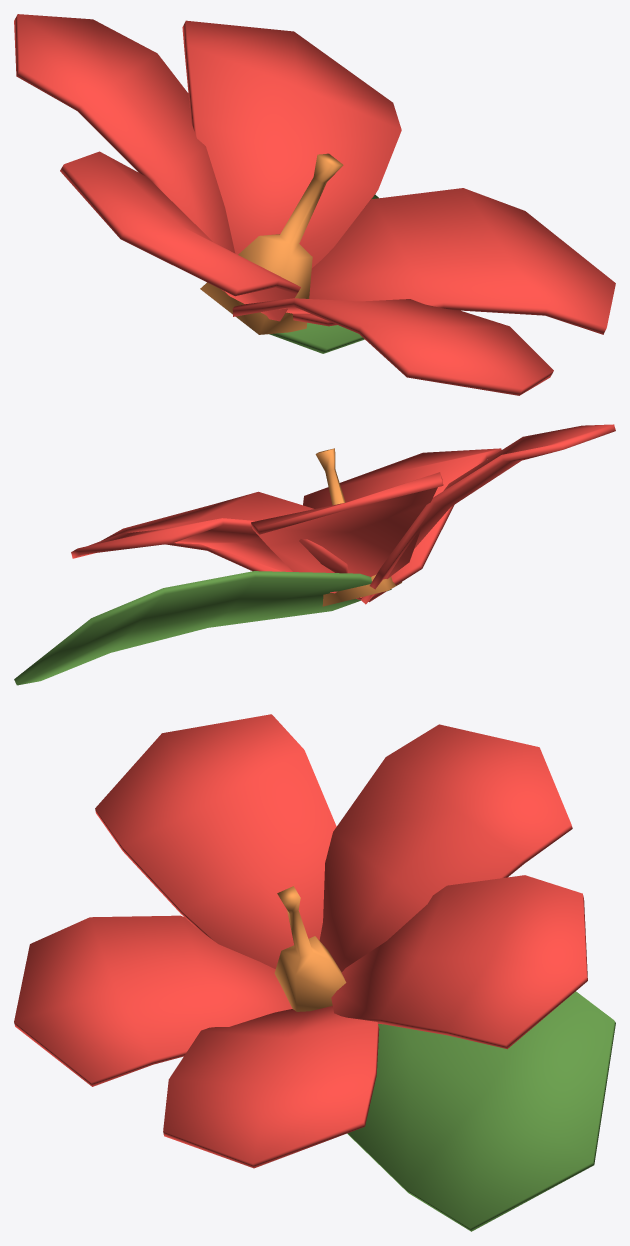
Rendered from redflower.fbx.
3 renders of one model, top to bottom at view 1: azimuth 30°, elevation 25°; view 2: azimuth 150°, elevation 25°; view 3: azimuth 270°, elevation 25°, orthographic. The views are drawn at different scales.
Visible parts, largest first — view 1: flower_red; view 2: flower_red; view 3: flower_red.
Boxes of the visible parts, x1=… form: flower_red: x1=14, y1=14, x2=615, y2=395; flower_red: x1=14, y1=424, x2=615, y2=685; flower_red: x1=14, y1=714, x2=615, y2=1231.
Size of the model in its own units: 18.53 by 11.21 by 19.98.
